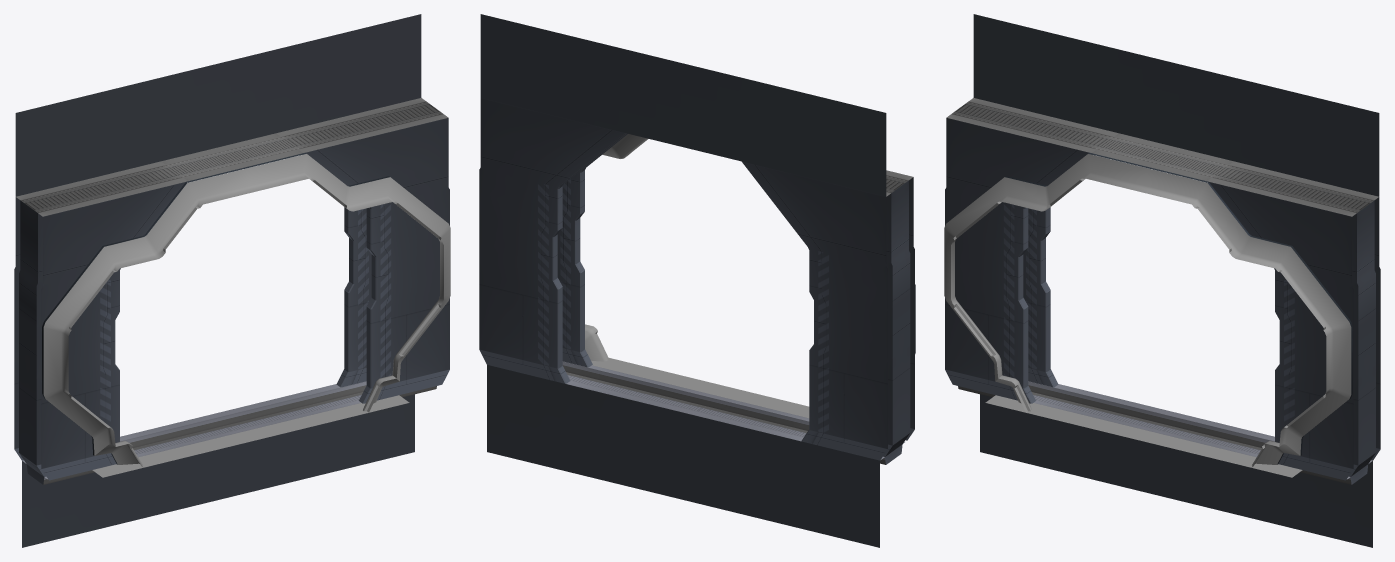
File: Elevator_doors_surround.fbx
3 views of the same model, side by side, from view 1: azimuth 30°, elevation 25°; view 2: azimuth 150°, elevation 25°; view 3: azimuth 330°, elevation 25° (orthographic).
Parts seen in each view (by area): view 1: Elevator_doors_surround; view 2: Elevator_doors_surround; view 3: Elevator_doors_surround.
Part boxes in pixels (left/top/right/bottom): Elevator_doors_surround: left=14, top=14, right=450, bottom=547; Elevator_doors_surround: left=479, top=14, right=915, bottom=547; Elevator_doors_surround: left=944, top=14, right=1380, bottom=547.
Bounding box in the file's own units: 490 × 500 × 78.25.
Materials: 4 (1 with a texture image).
